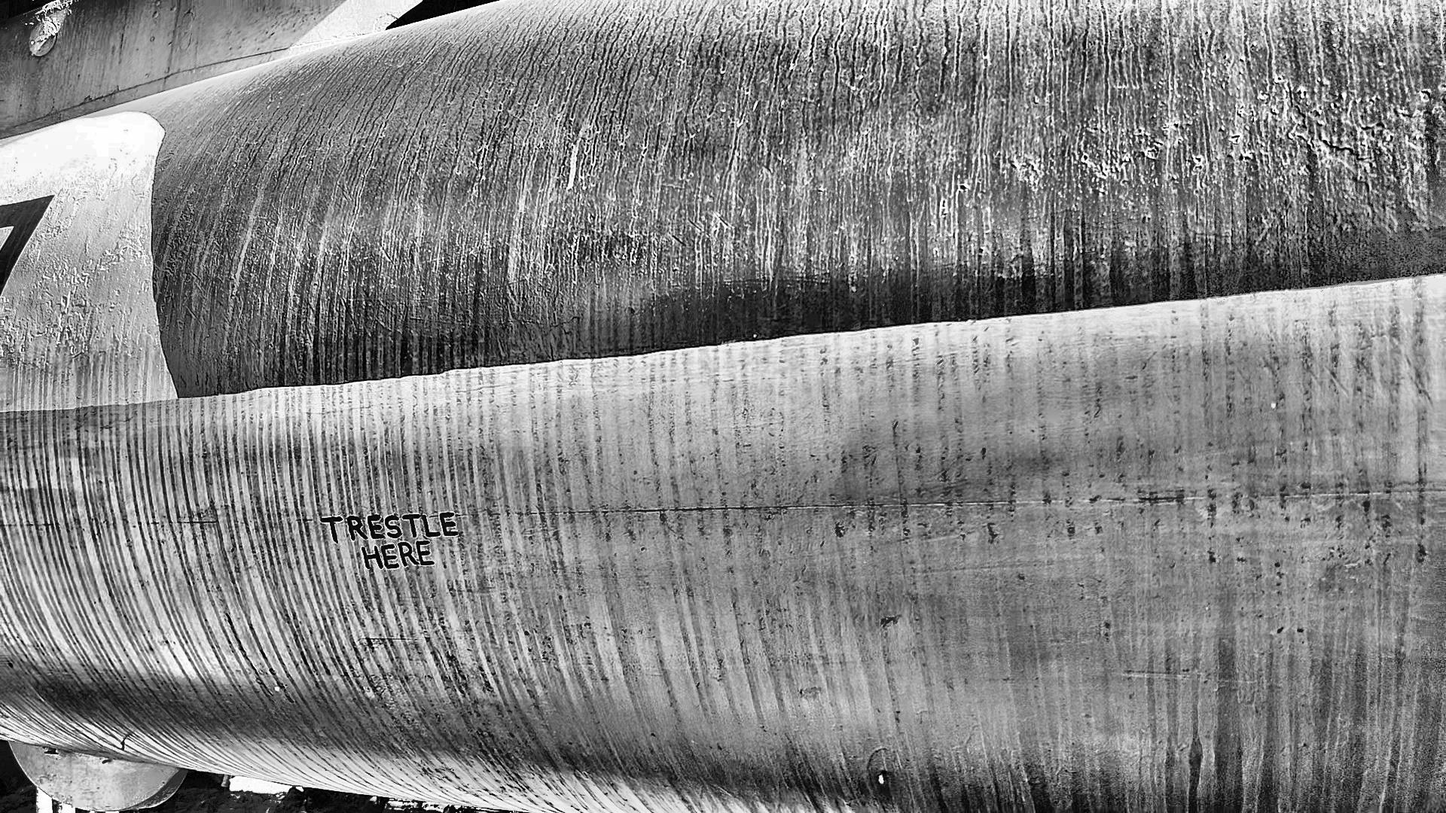paint-peel-off: (834, 523, 845, 538), (880, 616, 895, 627), (80, 95, 93, 104)
scratch: (341, 298, 358, 328), (186, 305, 204, 328), (378, 243, 395, 265), (715, 212, 732, 228), (688, 219, 705, 233), (672, 235, 689, 248)
